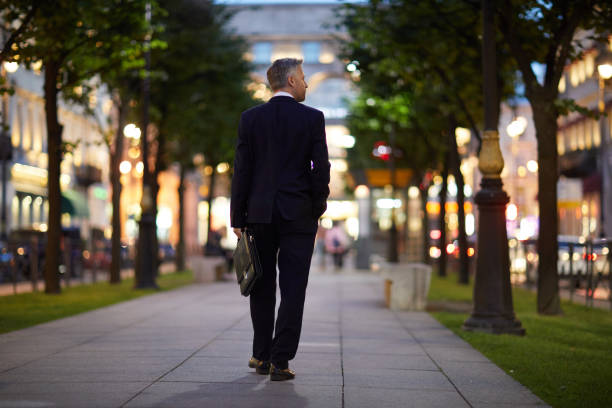person: (229, 55, 332, 382)
